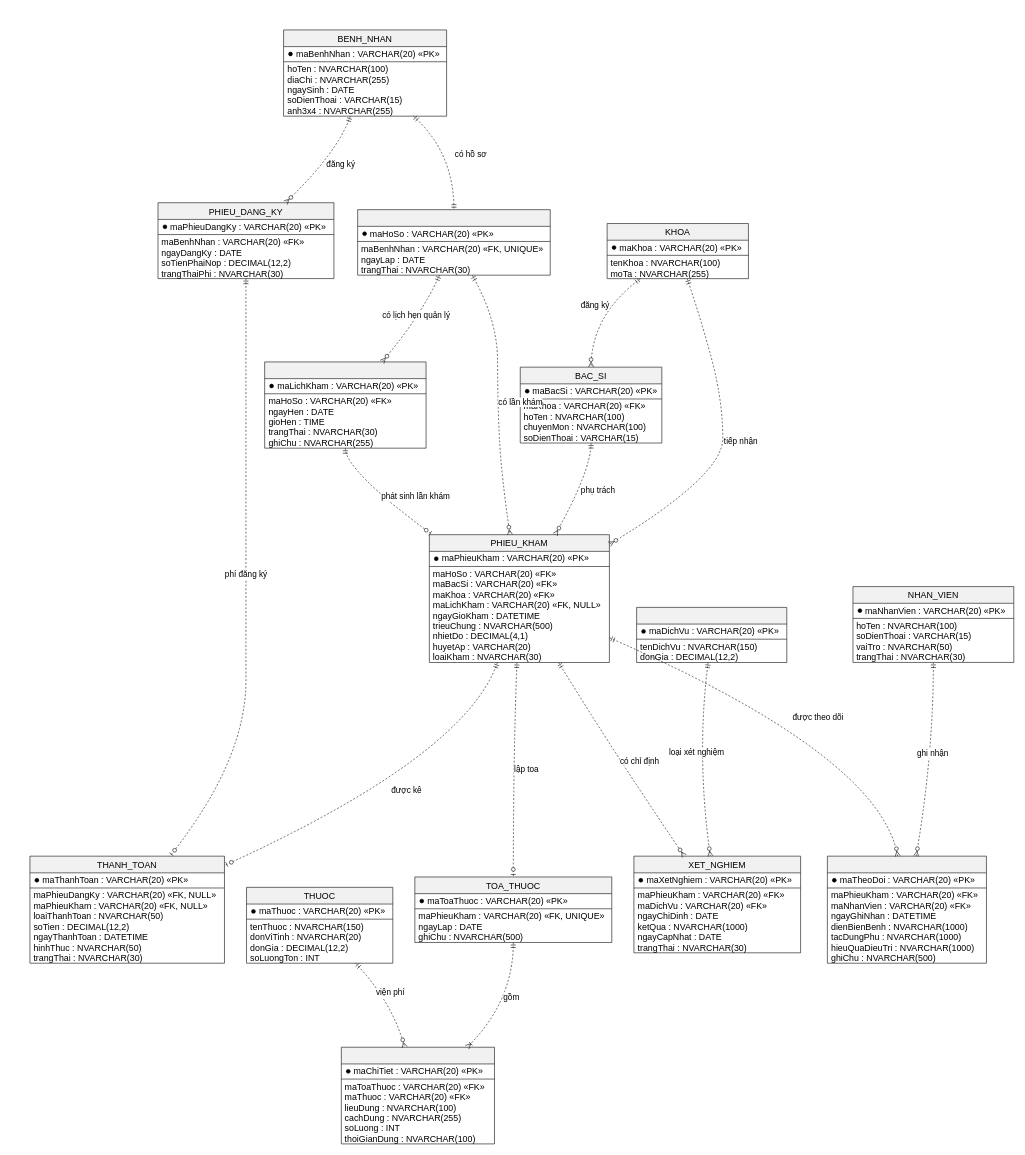
Some shapes in this 1025 by 1155 pixel diagram are drawn without their labels. The shapes that lost their labels are listed below. From the top down, each one's box as (x1, y1, x2, y2) in pixels, then its label:
(357, 209, 550, 275): HO_SO_BENH_AN
(264, 361, 426, 448): LICH_KHAM_DINH_KY
(636, 607, 787, 663): DICH_VU_XET_NGHIEM
(827, 856, 986, 963): THEO_DOI_SAU_DIEU_TRI
(341, 1047, 494, 1144): CHI_TIET_TOA_THUOC
